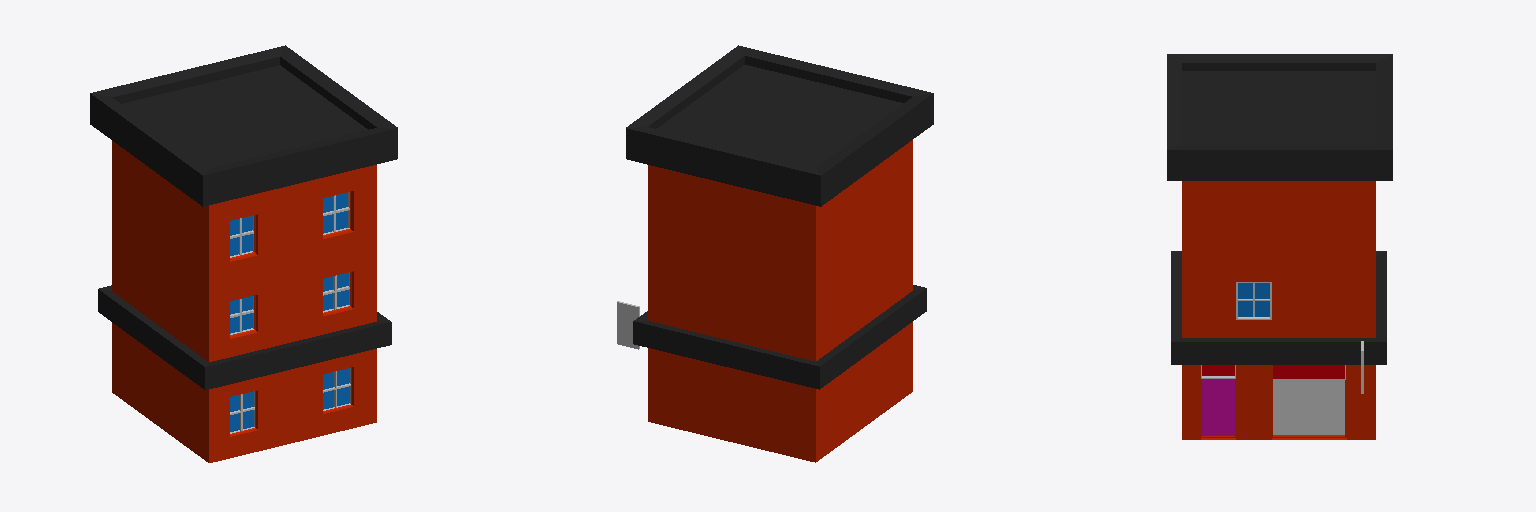
The model's file is building.obj.
3 views of the same model, side by side, from view 1: azimuth 30°, elevation 25°; view 2: azimuth 150°, elevation 25°; view 3: azimuth 270°, elevation 25° (orthographic).
Parts seen in each view (by area): view 1: Cube_Cube; view 2: Cube_Cube; view 3: Cube_Cube.
Boxes of the visible parts, <box> form: Cube_Cube: <box>90,45,397,462</box>; Cube_Cube: <box>617,45,933,462</box>; Cube_Cube: <box>1167,54,1392,439</box>.
Bounding box in the file's own units: 2.6 × 3.37 × 2.33.